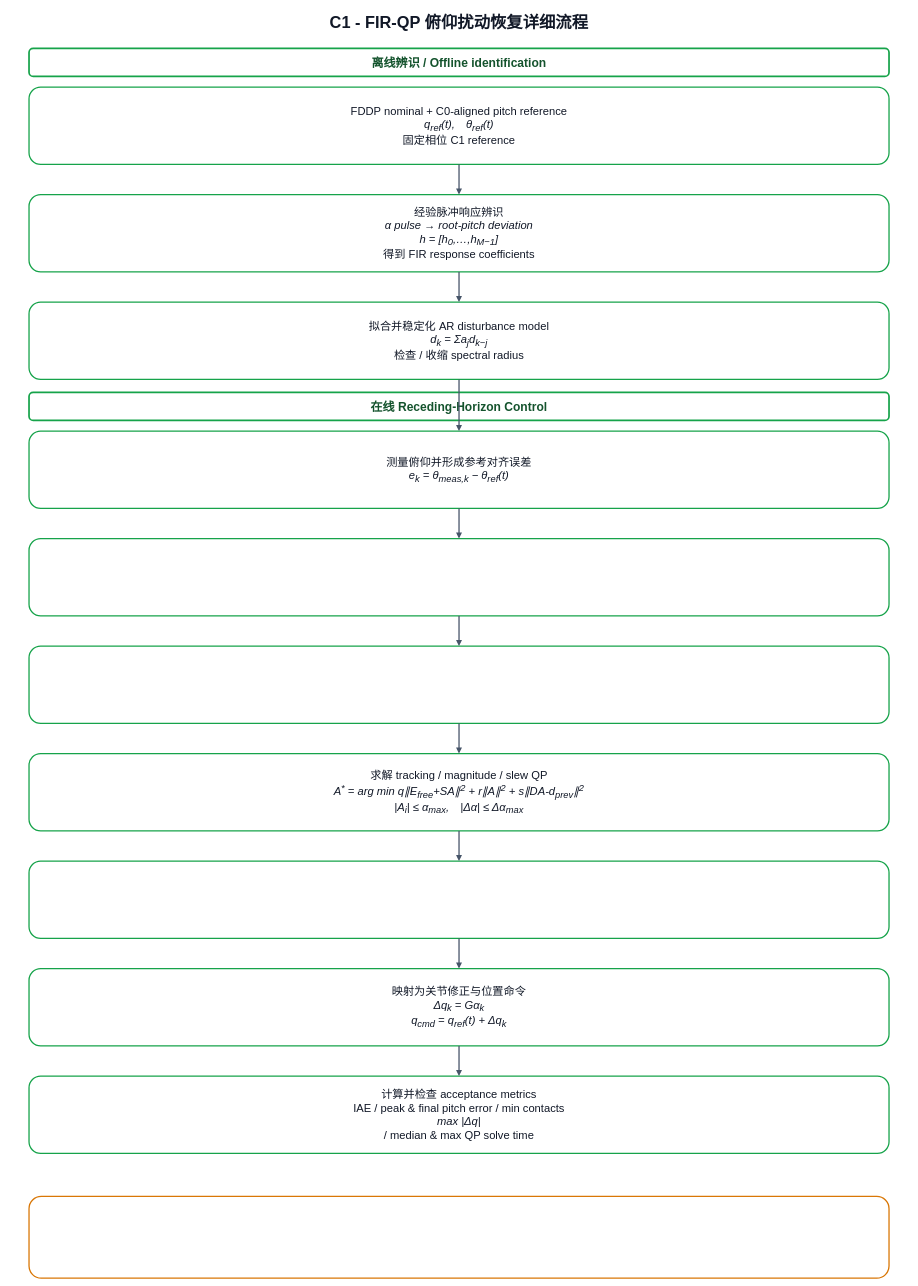
The diagram is 918 pixels wide and 1286 high, and some of its shapes have lost their labels. The shapes that lost their labels are listed below. From the top down, each one's centre as x and y in pixels, then its label:
(458,577): 减去历史指令的已知延迟响应 d k = e k − Σh i α k−i
(458,684): 预测自由响应并构造 FIR dynamic matrix E free = E AR + E past E = E free + SA
(458,899): 仅执行优化序列的第一个元素 α k = A 0 *
(458,1237): 证据边界：C1 相对 C0 改善扰动后的恢复性能；它不声称消除扰动施加瞬间的初始峰值。
